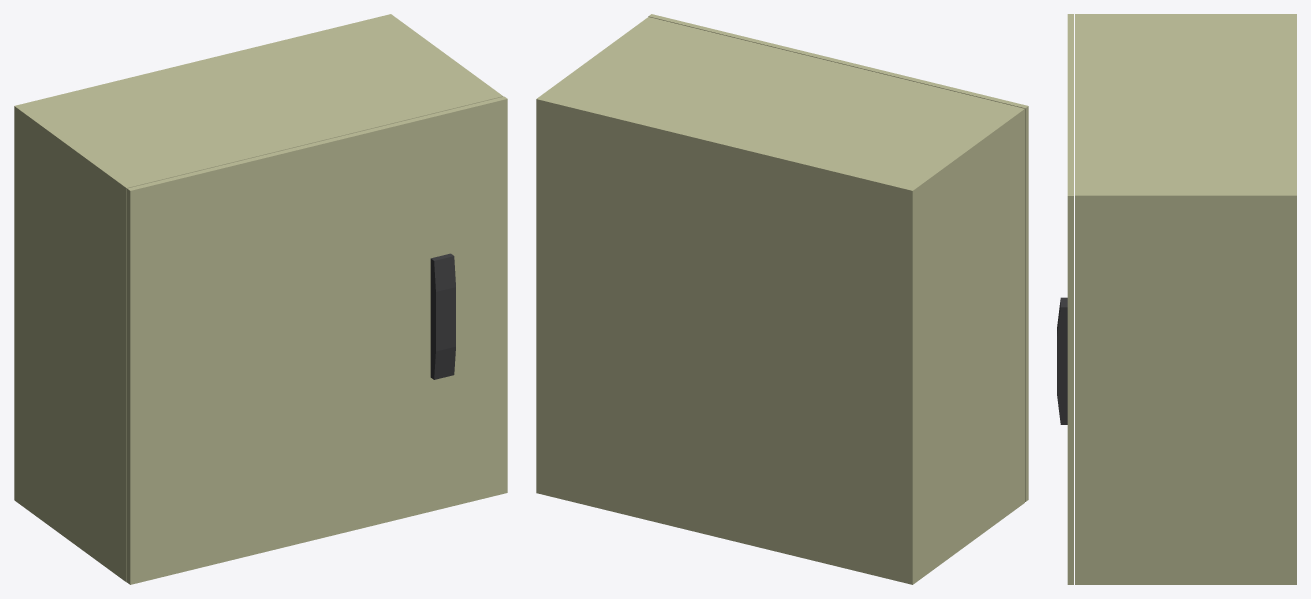
File: Ecza_Dolab.fbx
3 views of the same model, side by side, from view 1: azimuth 30°, elevation 25°; view 2: azimuth 150°, elevation 25°; view 3: azimuth 270°, elevation 25° (orthographic).
Parts seen in each view (by area): view 1: Ecza_Dolabı_Kapak, Ecza_Dolabı; view 2: Ecza_Dolabı, Ecza_Dolabı_Kapak; view 3: Ecza_Dolabı, Ecza_Dolabı_Kapak.
Part boxes in pixels (bbox=[...]): Ecza_Dolabı_Kapak: bbox=[127, 96, 507, 584]; Ecza_Dolabı: bbox=[14, 14, 503, 582]; Ecza_Dolabı: bbox=[536, 17, 1024, 584]; Ecza_Dolabı_Kapak: bbox=[648, 14, 1028, 501]; Ecza_Dolabı: bbox=[1075, 14, 1296, 584]; Ecza_Dolabı_Kapak: bbox=[1057, 14, 1073, 584].
Bounding box in the file's own units: 101 × 101 × 56.1.
